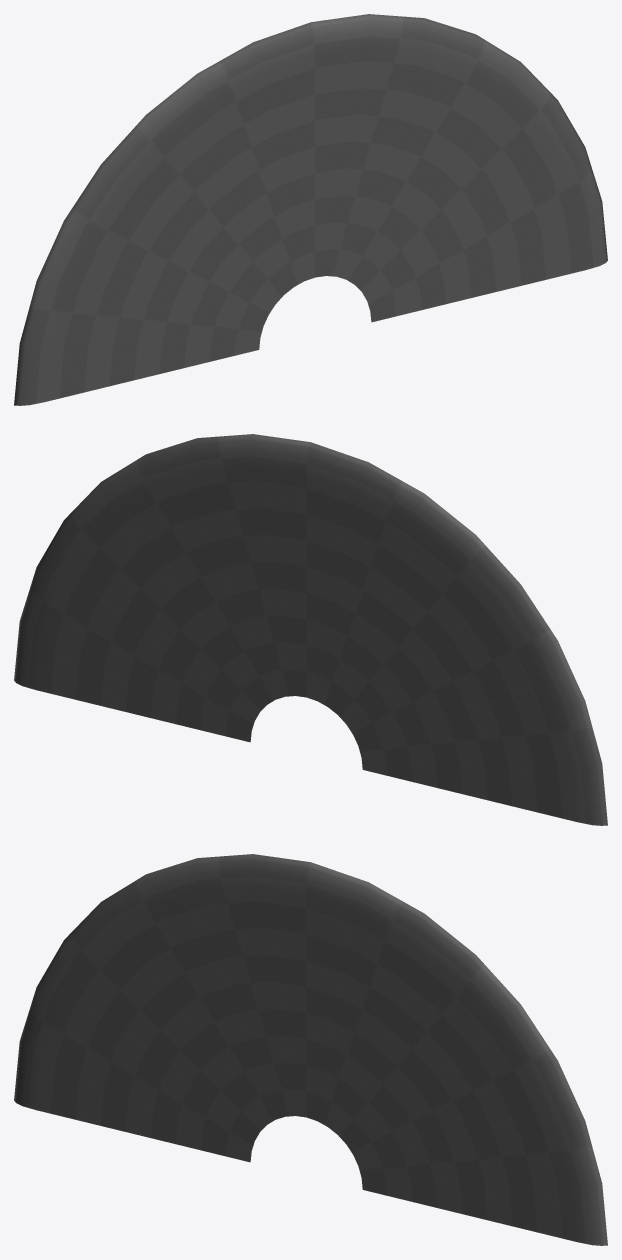
The model's file is SM_Dagger_SpinTrail.glb.
The picture shows the model from 3 angles, top to bottom: view 1: azimuth 30°, elevation 25°; view 2: azimuth 150°, elevation 25°; view 3: azimuth 330°, elevation 25°; orthographic projection.
Parts seen in each view (by area): view 1: SM_Dagger_SpinTrail; view 2: SM_Dagger_SpinTrail; view 3: SM_Dagger_SpinTrail.
Part boxes in pixels (x1,y1,x2,y2): SM_Dagger_SpinTrail: [14, 14, 607, 405]; SM_Dagger_SpinTrail: [14, 434, 607, 825]; SM_Dagger_SpinTrail: [14, 854, 607, 1245].
Size of the model in its own units: 0.3956 by 0.1978 by 0.01.
1 material, 1 textured.
